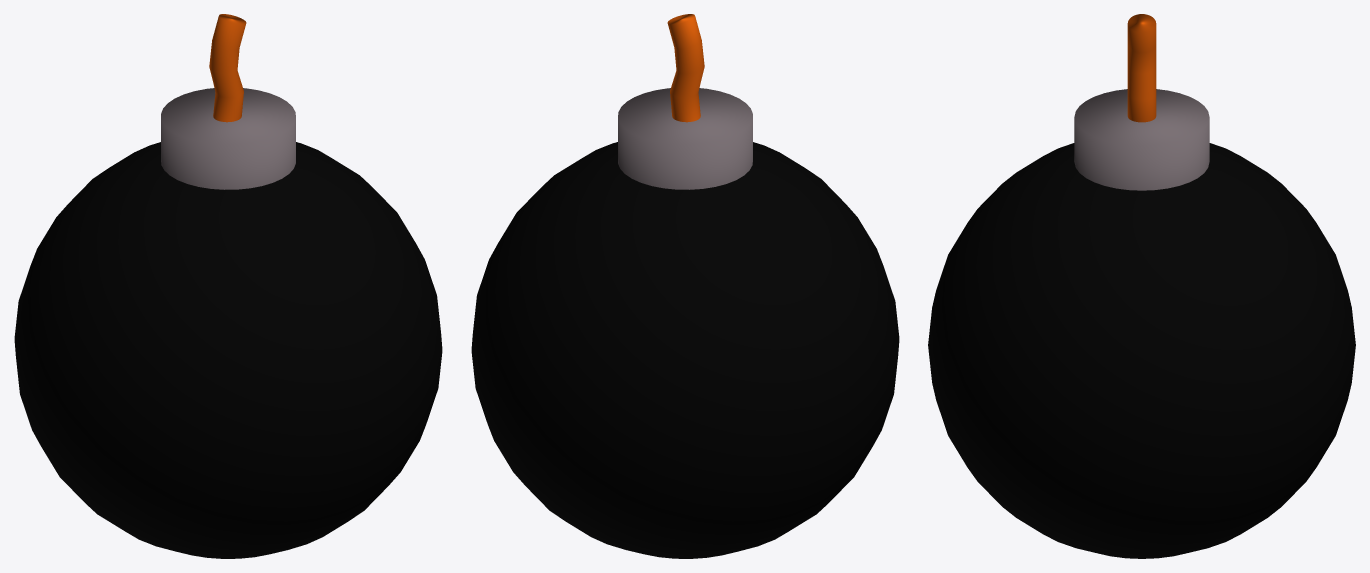
The model's file is bomb.fbx.
3 views of the same model, side by side, from view 1: azimuth 30°, elevation 25°; view 2: azimuth 150°, elevation 25°; view 3: azimuth 270°, elevation 25° (orthographic).
Visible parts, largest first — view 1: Sphere, Cylinder, Cylinder.001; view 2: Sphere, Cylinder, Cylinder.001; view 3: Sphere, Cylinder, Cylinder.001.
Part boxes in pixels (x1,y1,x2,y2): Sphere: [14, 142, 442, 558]; Cylinder: [161, 88, 295, 189]; Cylinder.001: [209, 14, 246, 122]; Sphere: [471, 142, 899, 558]; Cylinder: [618, 88, 752, 189]; Cylinder.001: [667, 14, 704, 122]; Sphere: [928, 143, 1355, 558]; Cylinder: [1074, 89, 1209, 190]; Cylinder.001: [1127, 14, 1156, 122].
Size of the model in its own units: 200 by 269 by 200.
